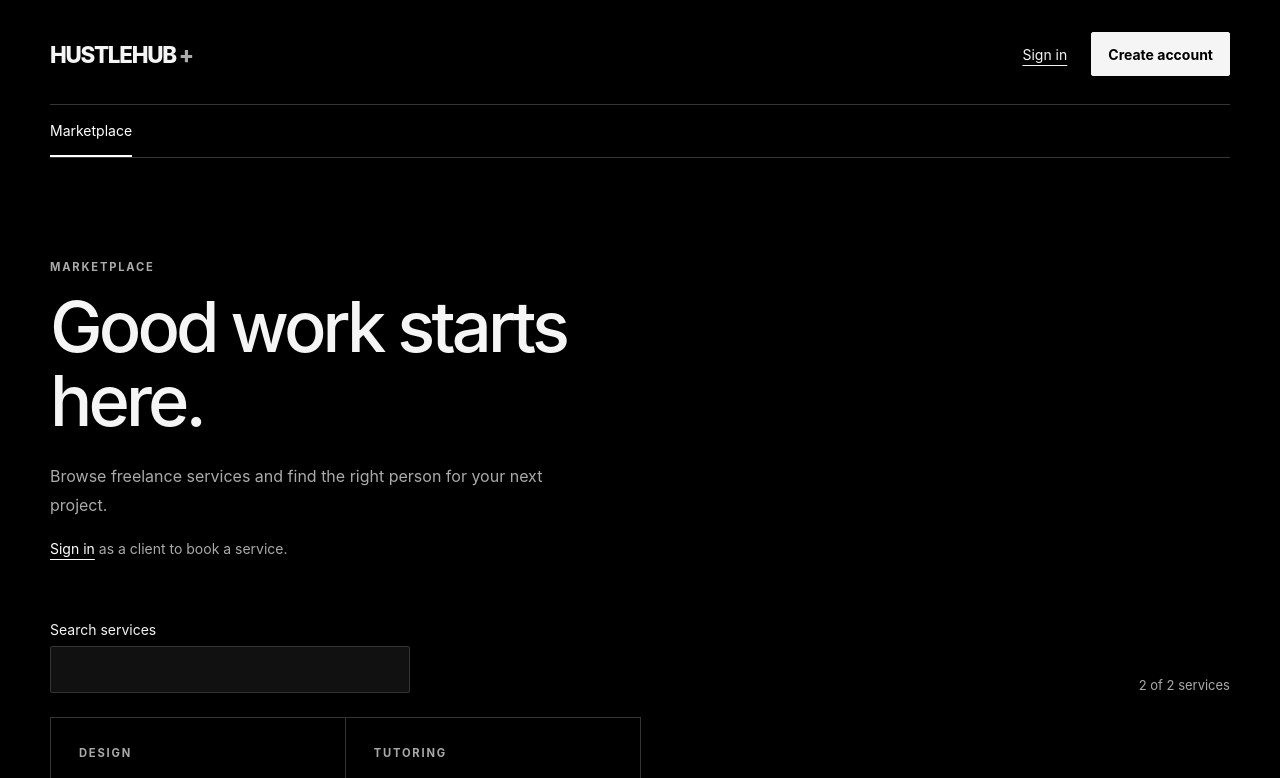
Test: marketplace › lists gigs from the API and narrows them with the search box
This screenshot has width=1280, height=778.
Expected: the text "2 of 2 services" is shown, [1139,677,1230,693]
In the search field labelled "Search services": [230, 670] box [50,646,410,693], type "tutor"
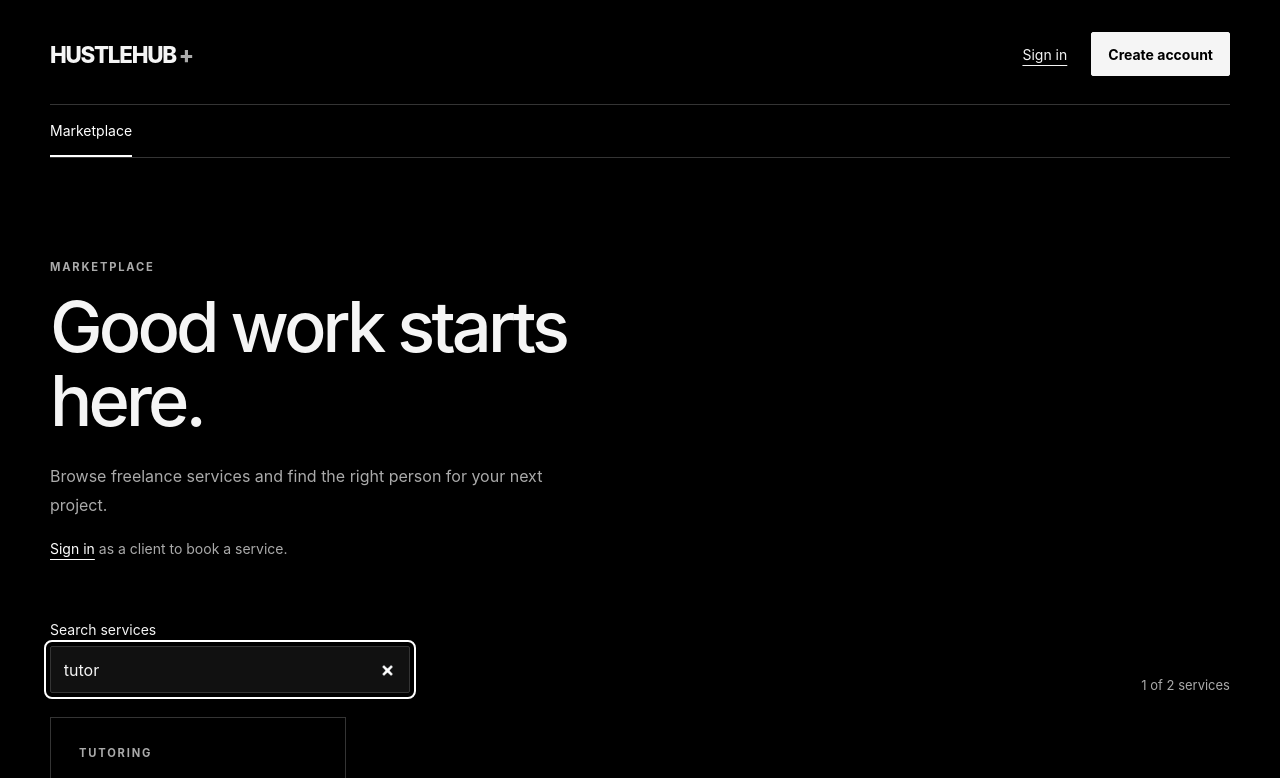
Expected: the text "1 of 2 services" is shown, [1141,677,1230,693]
